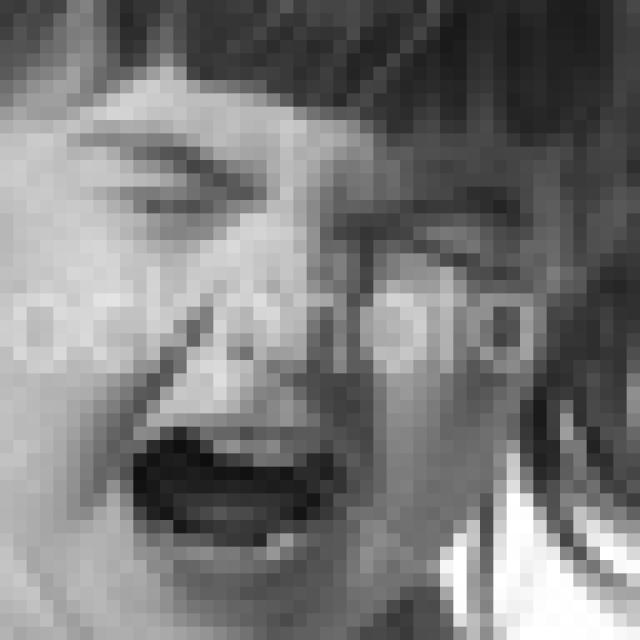fear: (53, 120, 532, 612)
